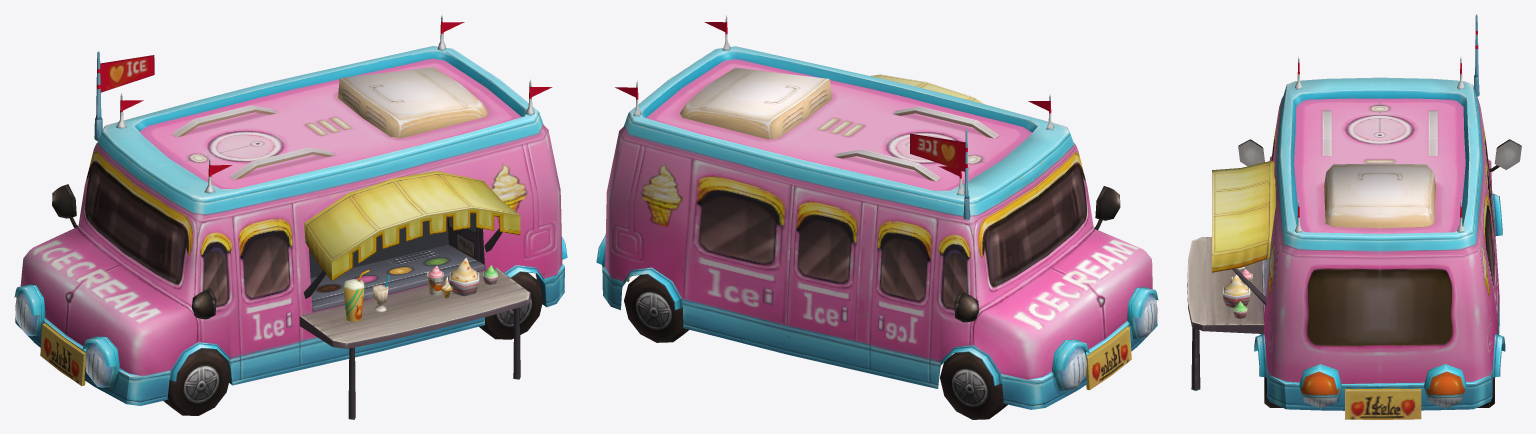
3 views of the same model, side by side, from view 1: azimuth 30°, elevation 25°; view 2: azimuth 150°, elevation 25°; view 3: azimuth 270°, elevation 25° (orthographic). The views are drawn at different scales.
Parts seen in each view (by area): view 1: wq_jz005_01; view 2: wq_jz005_01; view 3: wq_jz005_01.
Boxes of the visible parts, x1,y1,x2,y2 form: wq_jz005_01: [14, 15, 567, 419]; wq_jz005_01: [596, 15, 1158, 419]; wq_jz005_01: [1187, 14, 1521, 419].
Bounding box in the file's own units: 559 × 317 × 375.
Materials: 1 (1 with a texture image).
